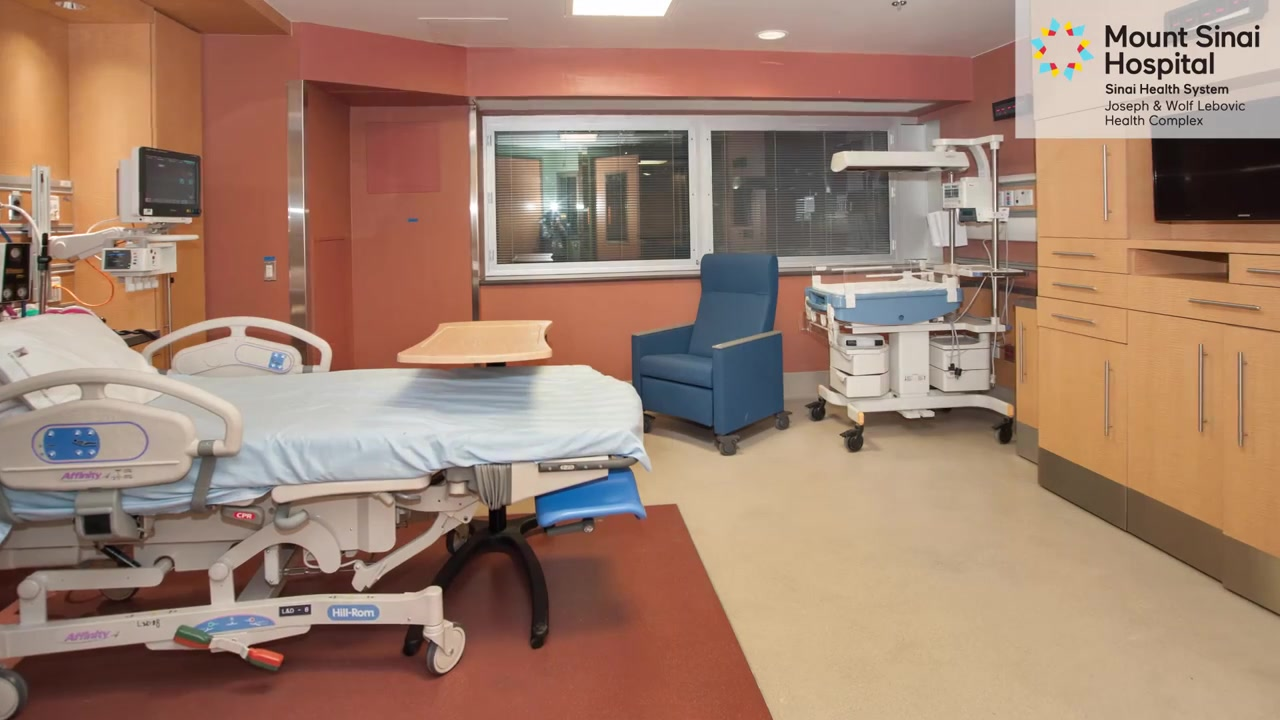TV: (1146, 142, 1280, 224)
bedrail: (1, 365, 244, 502), (140, 313, 334, 377)
bedside_monitor: (133, 141, 204, 224)
cabinet: (1031, 137, 1280, 622)
handle: (1236, 350, 1249, 448), (1187, 296, 1261, 312), (1197, 342, 1209, 433), (1101, 143, 1112, 223), (1103, 359, 1114, 439), (1018, 319, 1028, 383), (1050, 312, 1097, 325), (1051, 280, 1098, 292), (1050, 249, 1097, 259), (1245, 266, 1280, 276)
hospital_bed: (1, 308, 652, 711)
iv_pole: (34, 231, 56, 314)
light_switch: (263, 262, 278, 283)
overbed_table: (394, 317, 595, 662)
panda_baby_warmer: (802, 137, 1010, 452)
sofa: (628, 249, 792, 462)
